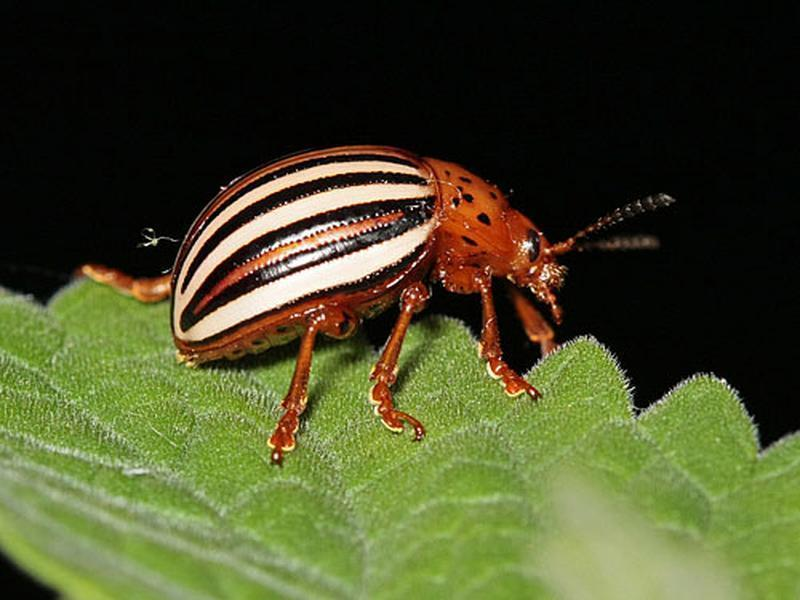hrosc: (156, 135, 619, 454)
